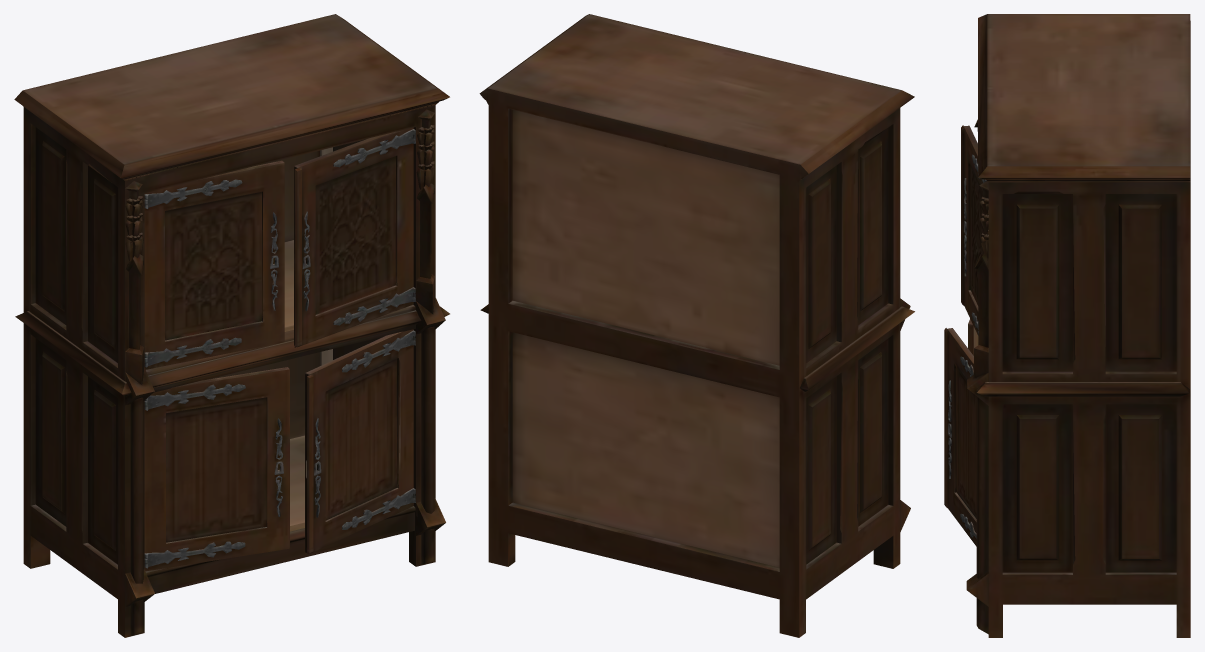
Rendered from GothicCabinet_01.glb.
3 views of the same model, side by side, from view 1: azimuth 30°, elevation 25°; view 2: azimuth 150°, elevation 25°; view 3: azimuth 270°, elevation 25° (orthographic).
Parts seen in each view (by area): view 1: GothicCabinet_01_cabinet; view 2: GothicCabinet_01_cabinet; view 3: GothicCabinet_01_cabinet.
Part boxes in pixels (box(x1,y1,x2,y2)): GothicCabinet_01_cabinet: box(14, 14, 449, 637); GothicCabinet_01_cabinet: box(479, 14, 914, 637); GothicCabinet_01_cabinet: box(944, 14, 1190, 637).
Bounding box in the file's own units: 1.72 × 2.36 × 1.12.
1 material, 1 textured.
